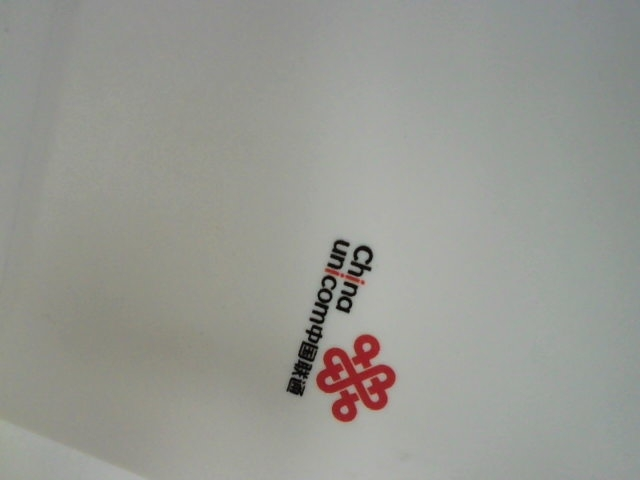AC_ChinaUnicom: (282, 221, 412, 425)
